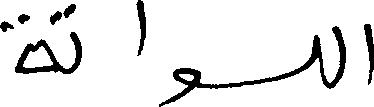X: (0, 9, 48, 78), (50, 0, 80, 78), (159, 63, 202, 106), (306, 30, 328, 92), (330, 21, 345, 93), (361, 19, 373, 89), (134, 0, 145, 60)
